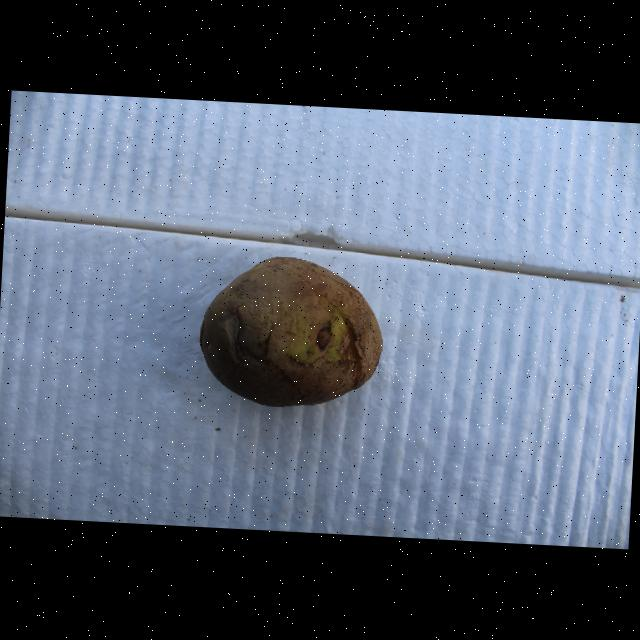Diseased-fungal potato: (190, 250, 386, 415)
